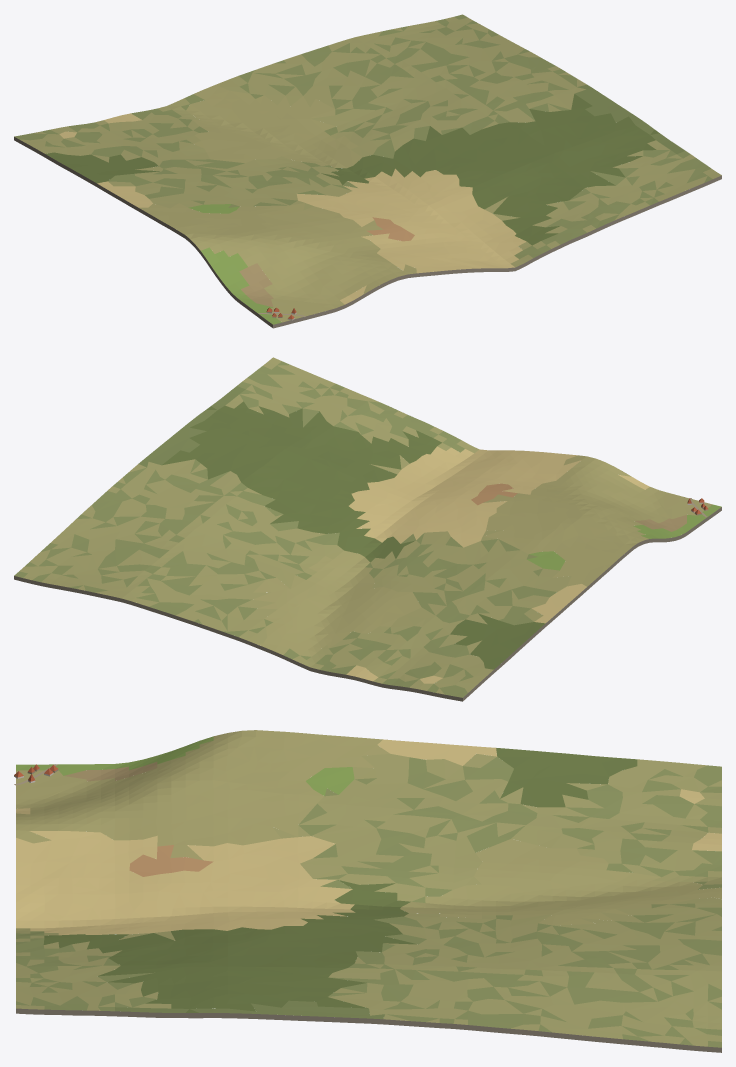
File: parca_+0_-5-uzak.glb
The picture shows the model from 3 angles, top to bottom: view 1: azimuth 30°, elevation 25°; view 2: azimuth 150°, elevation 25°; view 3: azimuth 270°, elevation 25°; orthographic projection. The views are drawn at different scales.
Parts seen in each view (by area): view 1: parca_+0_-5_arazi_uzak; view 2: parca_+0_-5_arazi_uzak; view 3: parca_+0_-5_arazi_uzak.
Boxes of the visible parts, bbox=[...] form: parca_+0_-5_arazi_uzak: bbox=[14, 14, 721, 328]; parca_+0_-5_arazi_uzak: bbox=[14, 357, 721, 701]; parca_+0_-5_arazi_uzak: bbox=[16, 730, 721, 1052].
Bounding box in the file's own units: 1000 × 111 × 1003.
